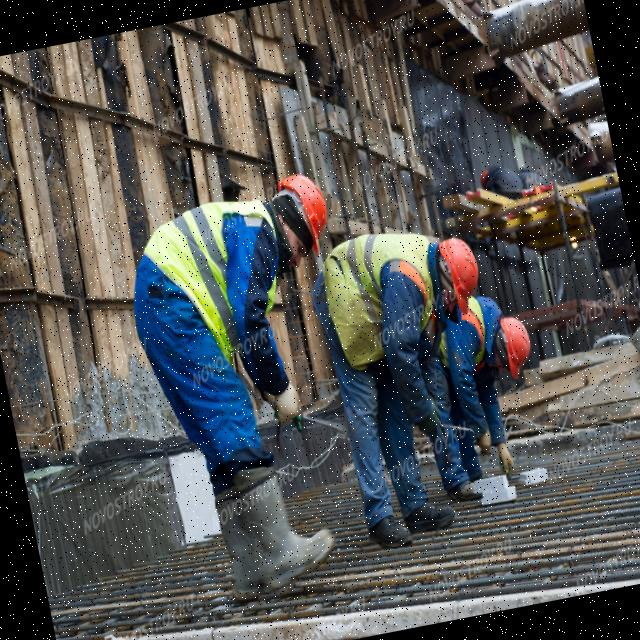Helmet: (279, 171, 338, 265), (438, 235, 489, 318), (496, 314, 538, 382)
Jacket: (146, 195, 295, 327), (322, 231, 452, 351)
